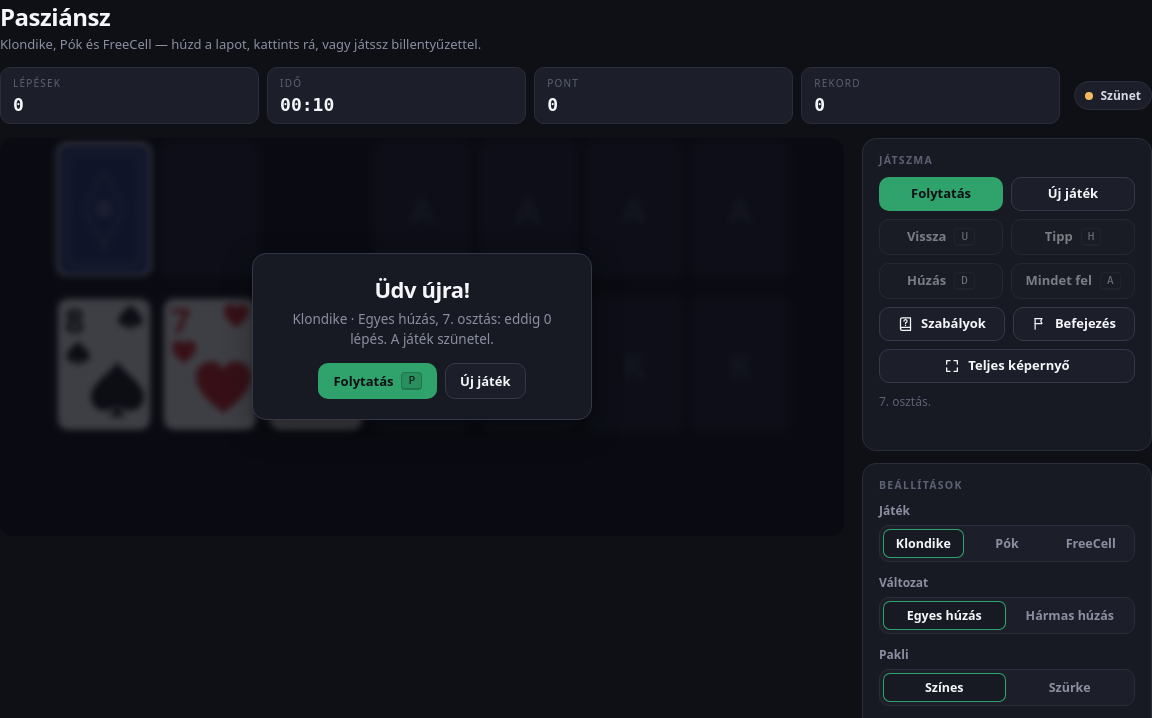
Solitaire finish early › confirms with the Score panel value 0, ranks it once and shows the finished card
This screenshot has width=1152, height=718.
Press p
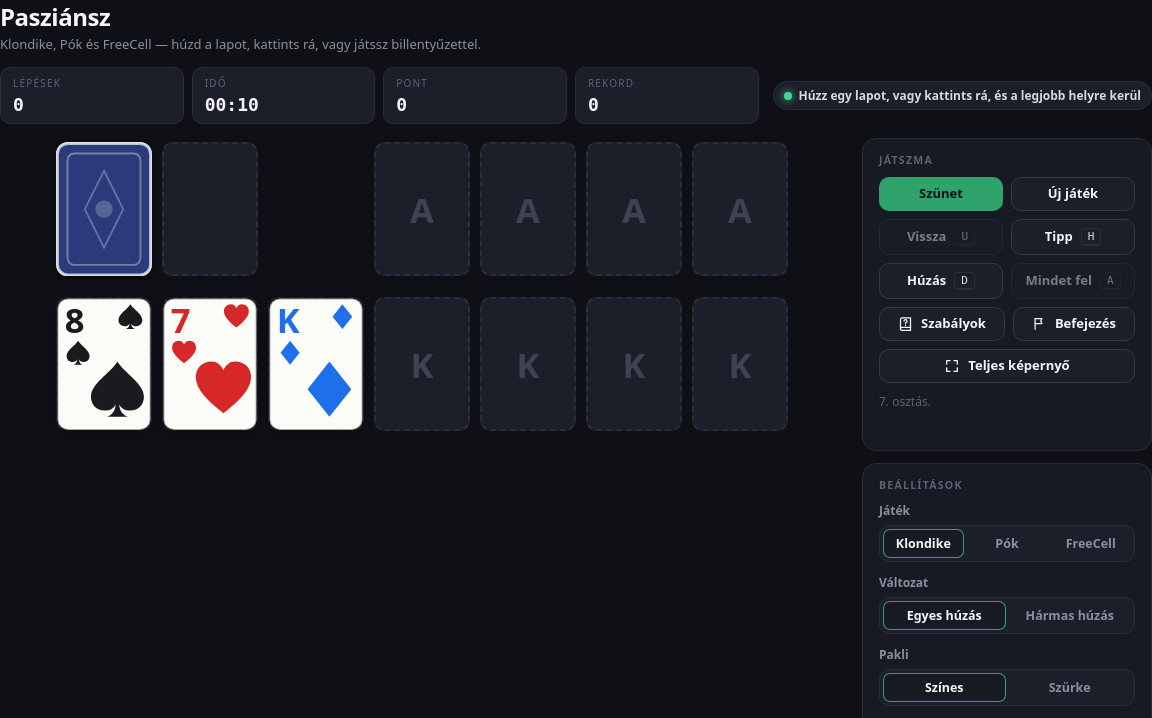
Now the dialog is gone
Press the mouse on the element showing "7" at (210, 364), box top-left (162, 297), bottom-right (258, 432)
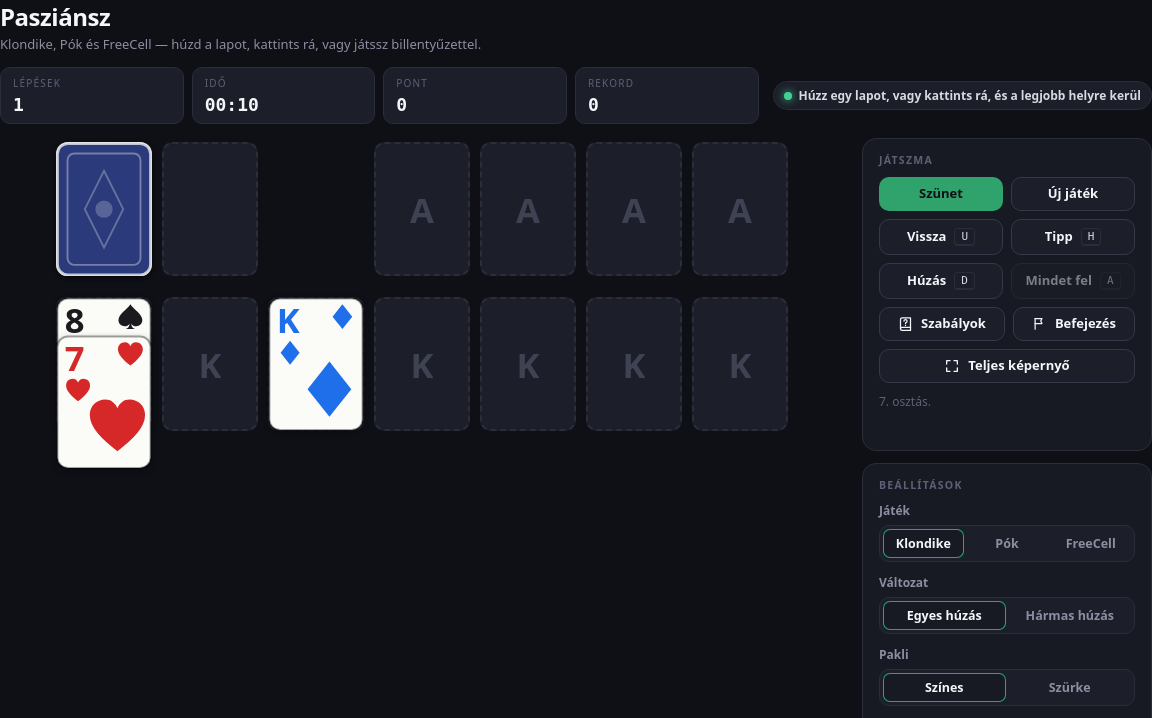
Click the button "Befejezés" at (1074, 324), box top-left (1013, 307), bottom-right (1135, 341)
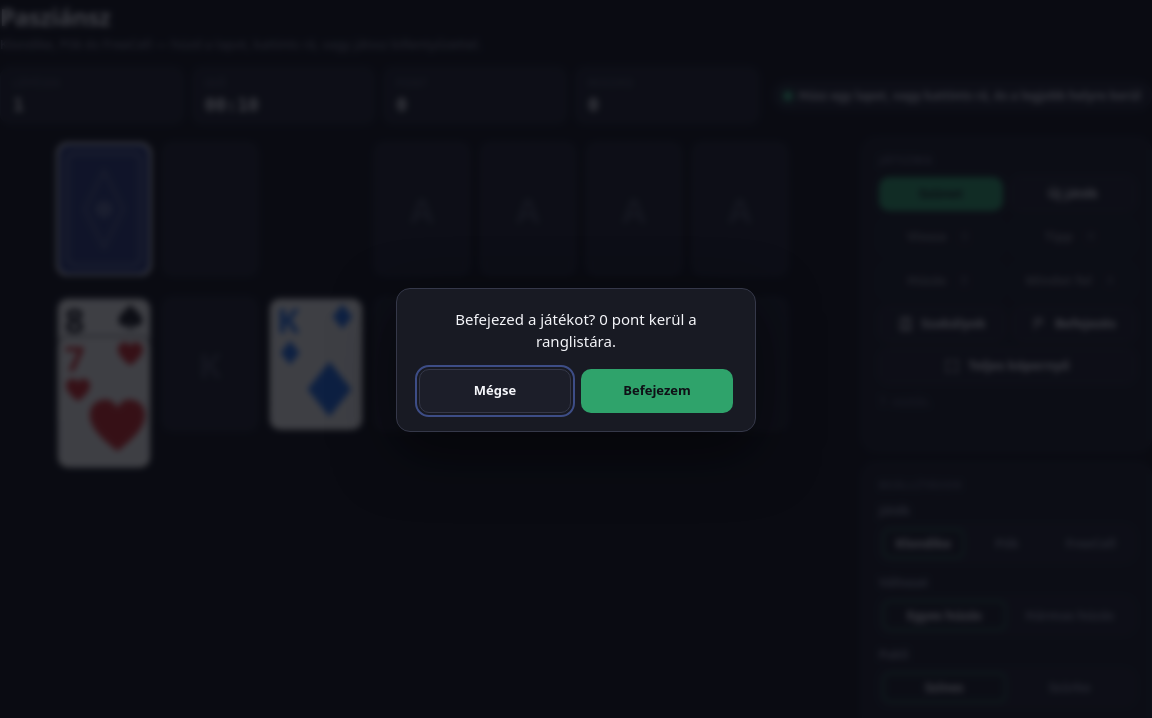
Now the dialog shows "Befejezed a játékot? 0 pont kerül a ranglistára.", box top-left (455, 309), bottom-right (697, 351)
Click the button "Befejezem" at (657, 391), box top-left (581, 369), bottom-right (733, 413)
Wait 5000 ms
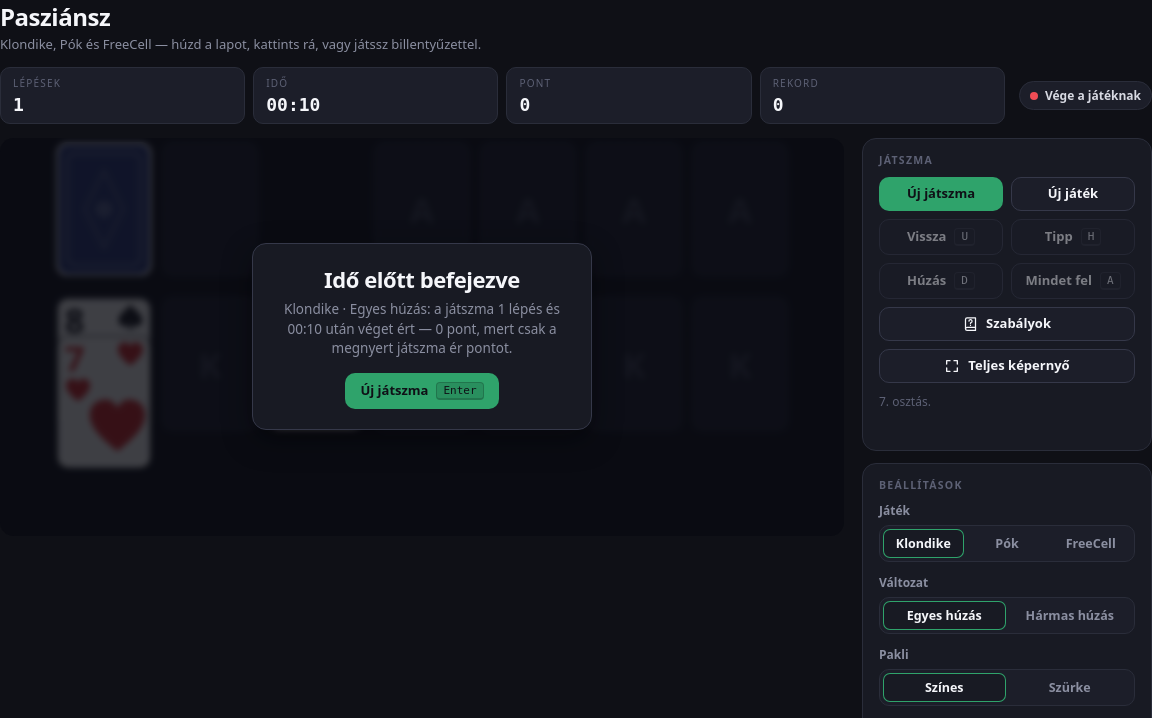
Now the dialog "Idő előtt befejezve" is shown, box top-left (0, 138), bottom-right (844, 536)
Now the dialog "Befejezés" is gone
